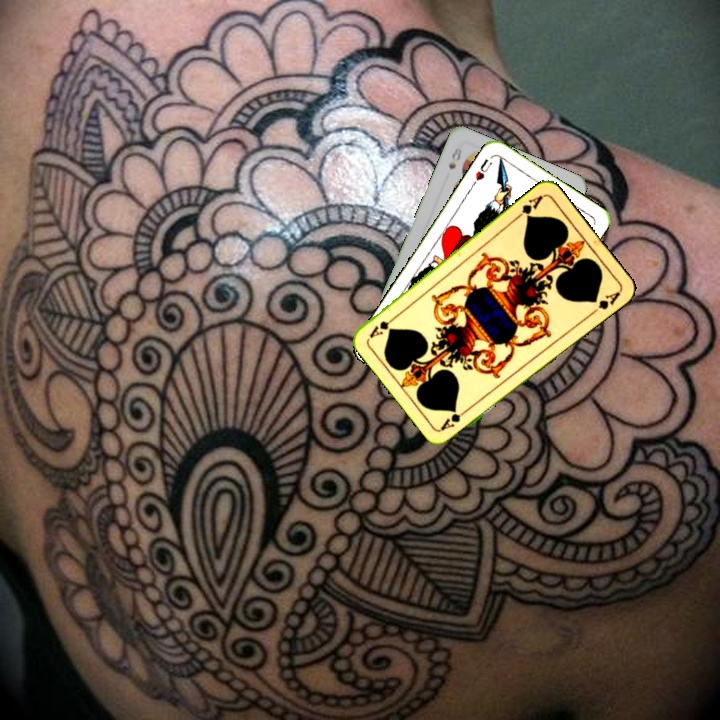GA: (511, 191, 546, 222), (437, 403, 472, 433)
HU: (468, 154, 495, 189)
S8: (444, 143, 465, 172)
